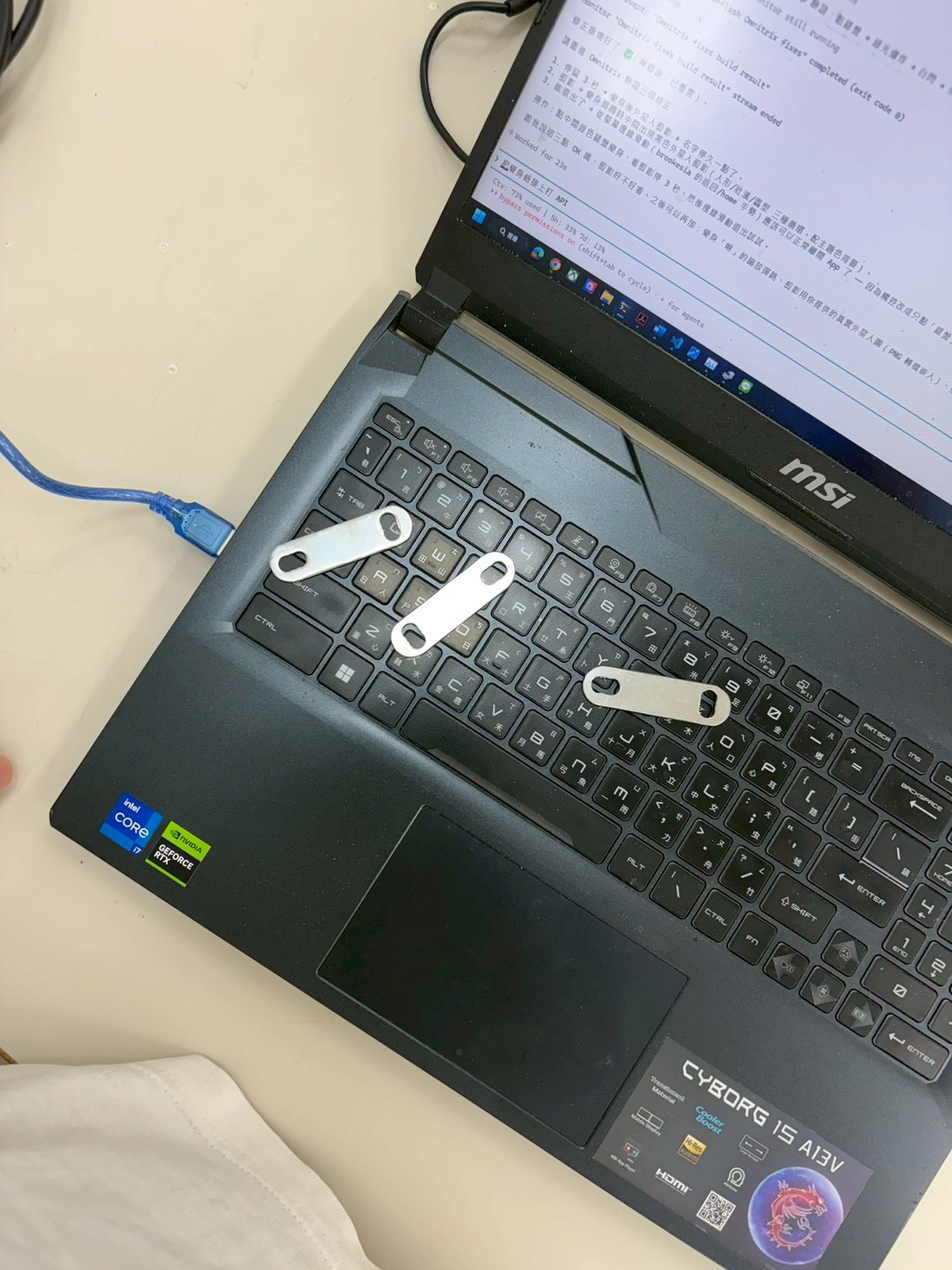Fe: (264, 492, 418, 586), (400, 544, 512, 659), (581, 657, 731, 726)
